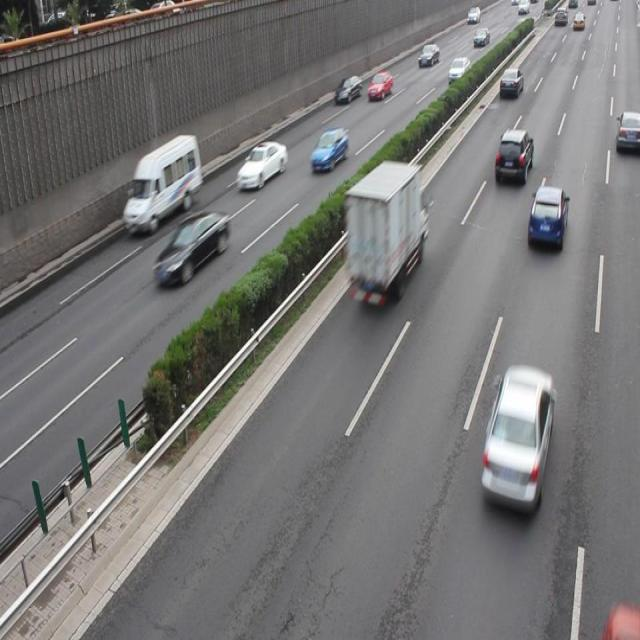bus: (342, 160, 424, 293)
car: (478, 364, 554, 509), (152, 209, 228, 285), (525, 184, 568, 254), (235, 140, 286, 191), (492, 127, 532, 187), (309, 127, 347, 173), (614, 109, 640, 152)
truck: (123, 133, 202, 232)
